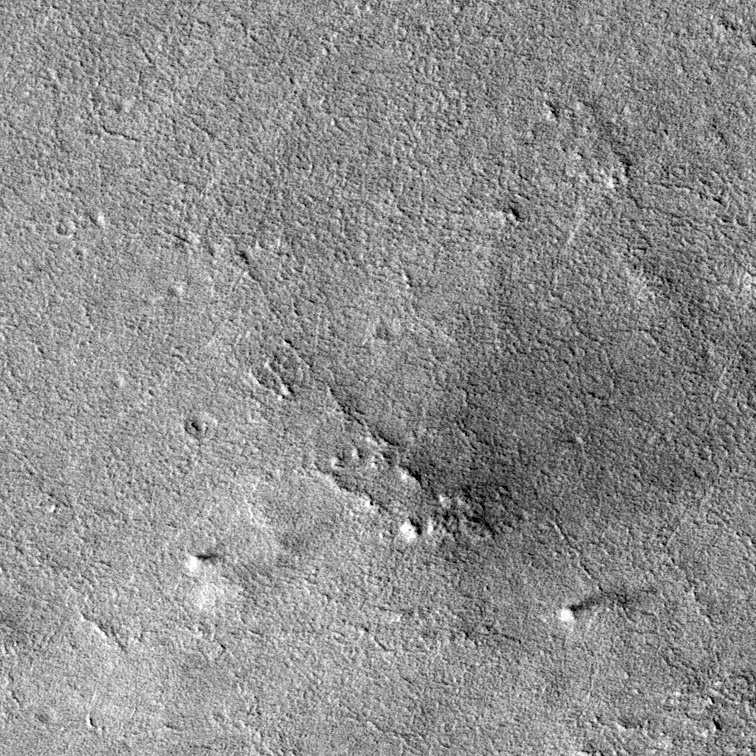dust_devil: (557, 583, 627, 626)
